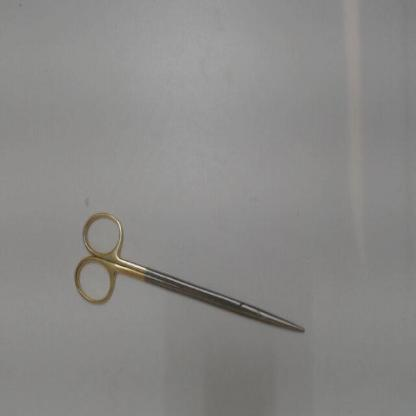7 Metzenbaum Scissors: (71, 208, 308, 342)
